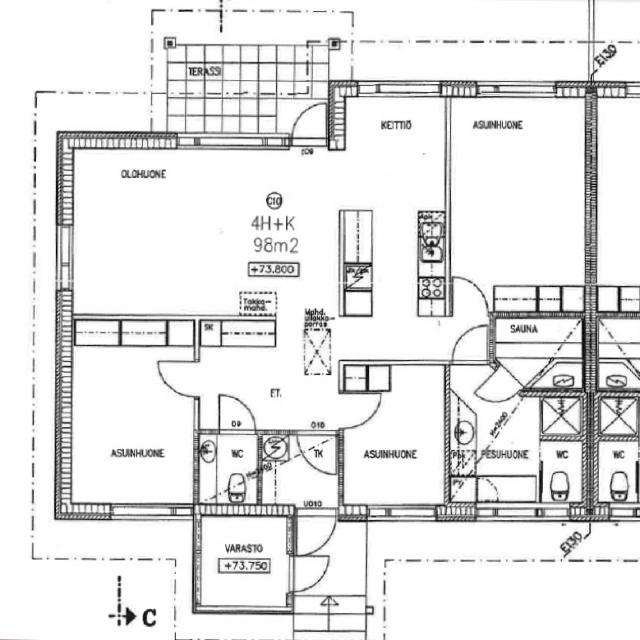door: (471, 364, 523, 415), (298, 502, 336, 558), (292, 99, 326, 149), (297, 429, 336, 471), (286, 556, 332, 590), (338, 393, 379, 428), (219, 394, 255, 433), (452, 278, 488, 316), (159, 362, 199, 396), (452, 327, 487, 365)
